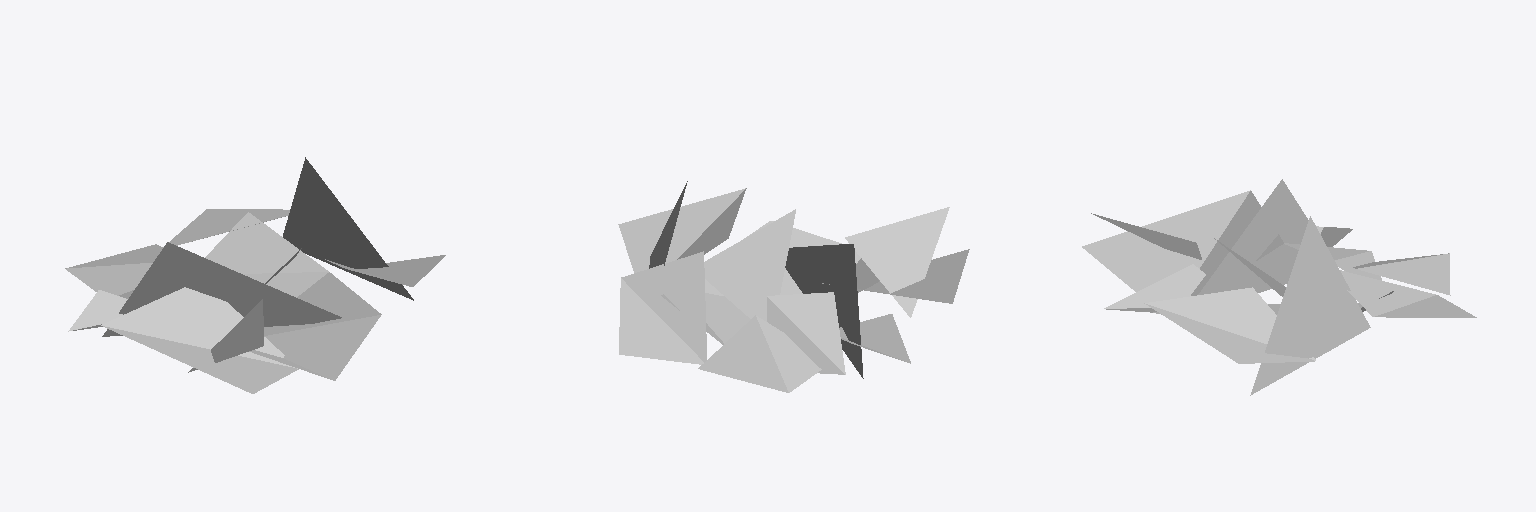
The model's file is forestgrass02.obj.
3 renders of one model, left to right at view 1: azimuth 30°, elevation 25°; view 2: azimuth 150°, elevation 25°; view 3: azimuth 270°, elevation 25°, orthographic.
Visible parts, largest first — view 1: ForestGrass02_0; view 2: ForestGrass02_0; view 3: ForestGrass02_0.
Boxes of the visible parts, x1=… form: ForestGrass02_0: x1=65, y1=157, x2=445, y2=393; ForestGrass02_0: x1=618, y1=181, x2=969, y2=392; ForestGrass02_0: x1=1082, y1=179, x2=1476, y2=395.
Bounding box in the file's own units: 83.35 × 33.64 × 84.26.